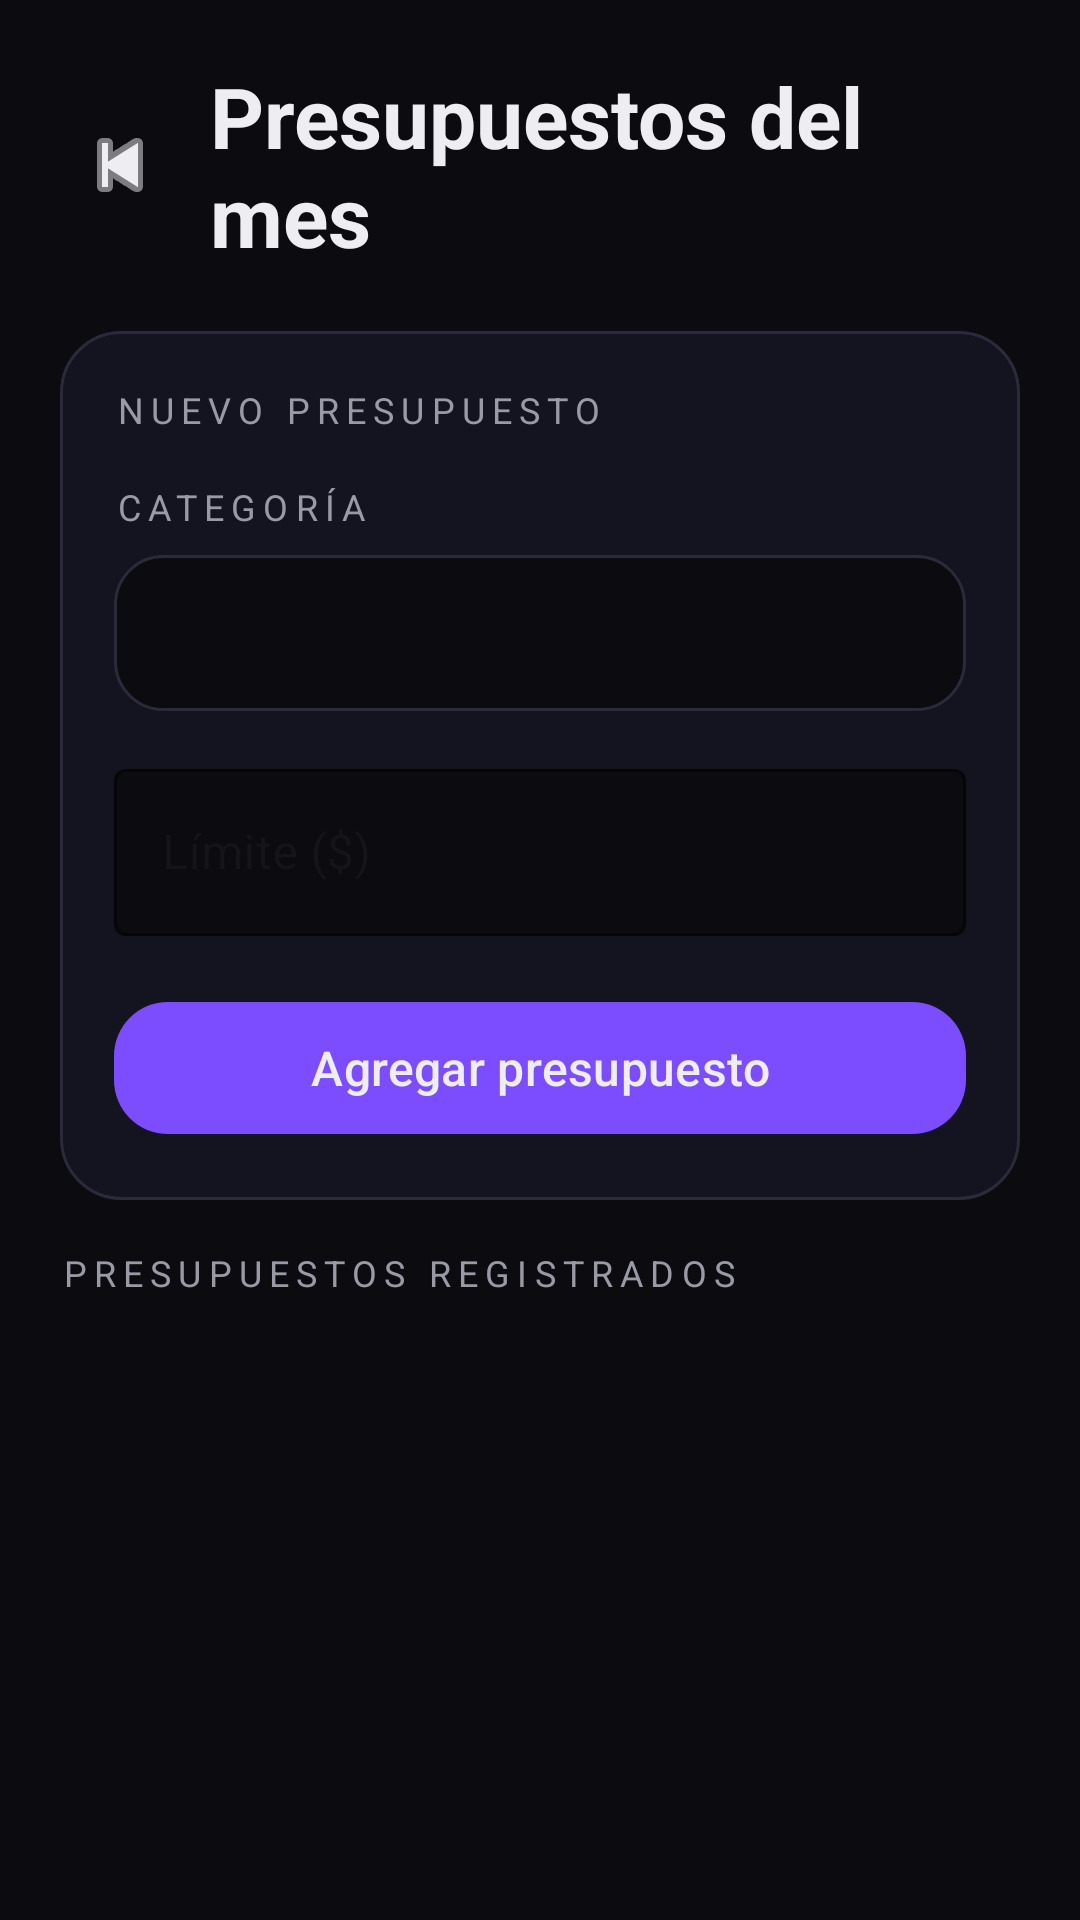

Named icons in this screenshot (1080*1920) and their bounding boxes, (x1, y1, x2, y2):
Volver: (97, 138, 143, 192)
